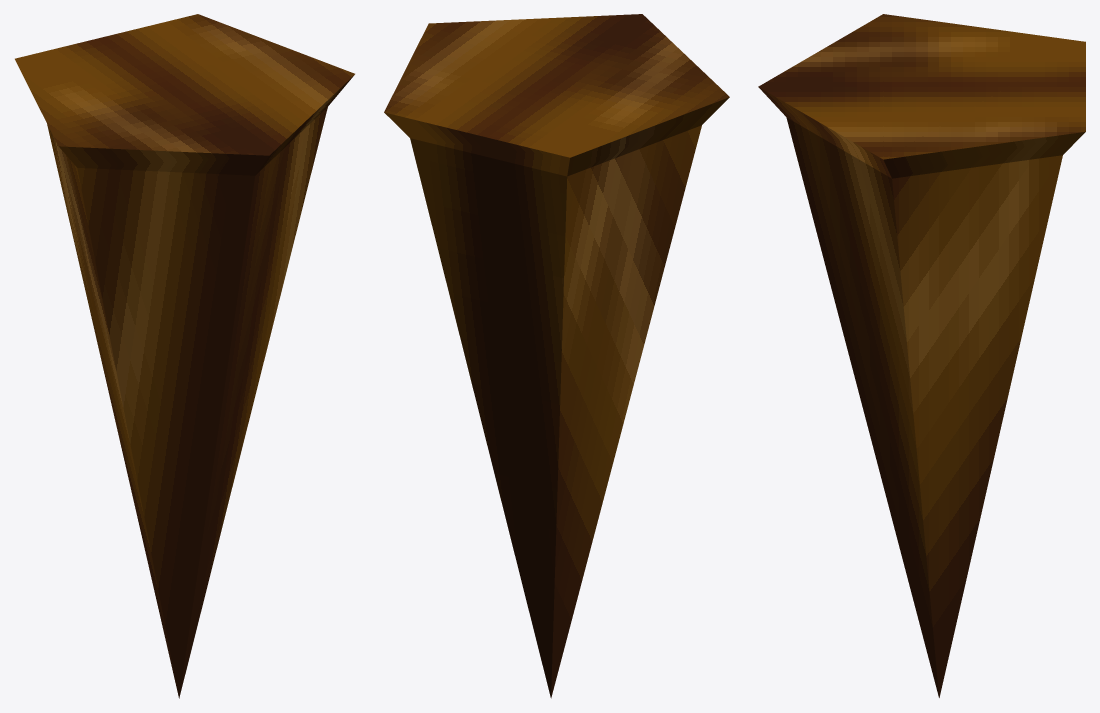
File: antorcha_palo.gltf
3 renders of one model, left to right at view 1: azimuth 30°, elevation 25°; view 2: azimuth 150°, elevation 25°; view 3: azimuth 270°, elevation 25°, orthographic.
Visible parts, largest first — view 1: Cube; view 2: Cube; view 3: Cube.
Part boxes in pixels (bbox=[...]): Cube: bbox=[15, 14, 354, 698]; Cube: bbox=[384, 14, 729, 698]; Cube: bbox=[758, 14, 1085, 697].
Size of the model in its own units: 0.2051 by 0.402 by 0.1951.
1 material, 1 textured.
